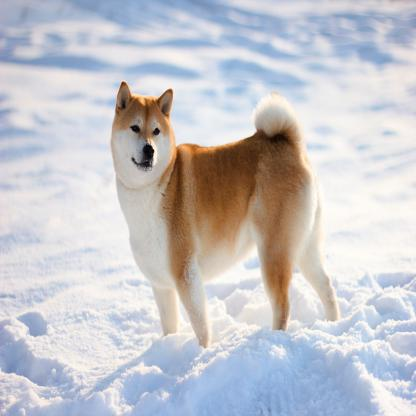Siba-ny: (108, 76, 344, 341)
